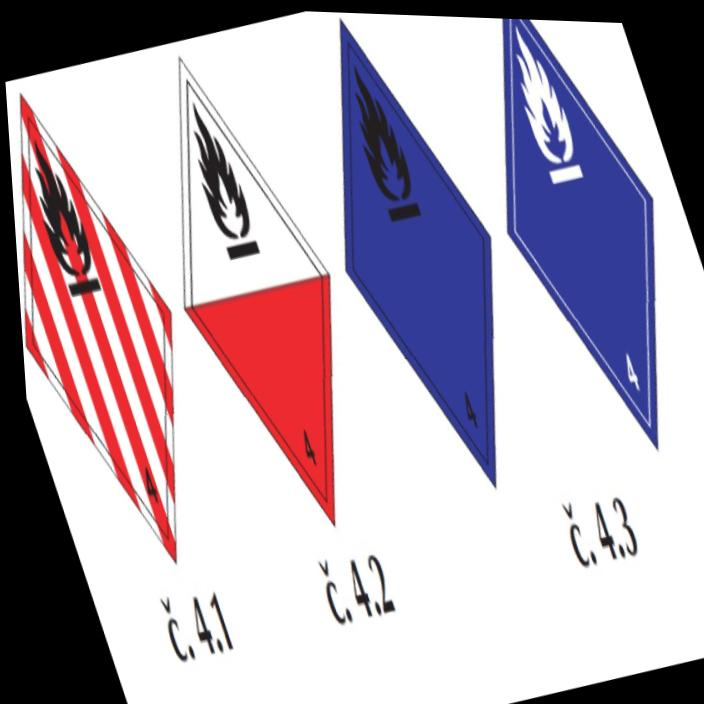clock: (340, 21, 496, 486), (504, 19, 658, 446)
